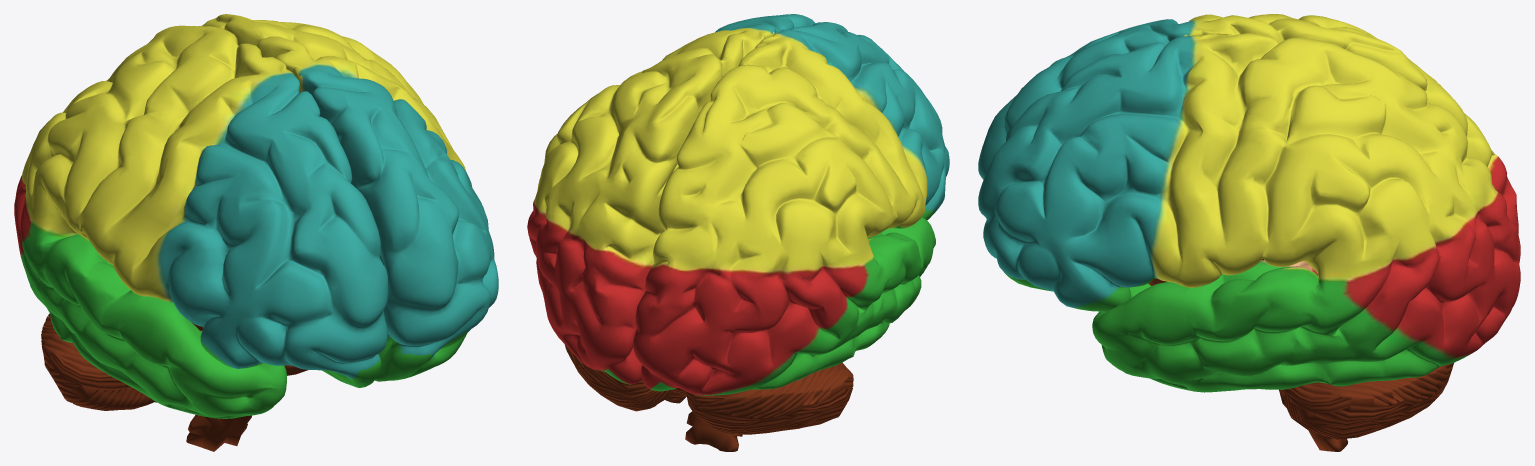
Rendered from brain-transformed.glb.
The picture shows the model from 3 angles, left to right: view 1: azimuth 30°, elevation 25°; view 2: azimuth 150°, elevation 25°; view 3: azimuth 270°, elevation 25°; orthographic projection. The views are drawn at different scales.
Parts seen in each view (by area): view 1: Brain_Part_01_Colour_Brain_Texture_0; view 2: Brain_Part_01_Colour_Brain_Texture_0; view 3: Brain_Part_01_Colour_Brain_Texture_0.
Boxes of the visible parts, x1,y1,x2,y2 form: Brain_Part_01_Colour_Brain_Texture_0: (14, 14, 498, 451); Brain_Part_01_Colour_Brain_Texture_0: (527, 14, 949, 451); Brain_Part_01_Colour_Brain_Texture_0: (978, 14, 1520, 451).
Size of the model in its own units: 1.06 by 1.12 by 1.32.
Materials: 1 (1 with a texture image).
